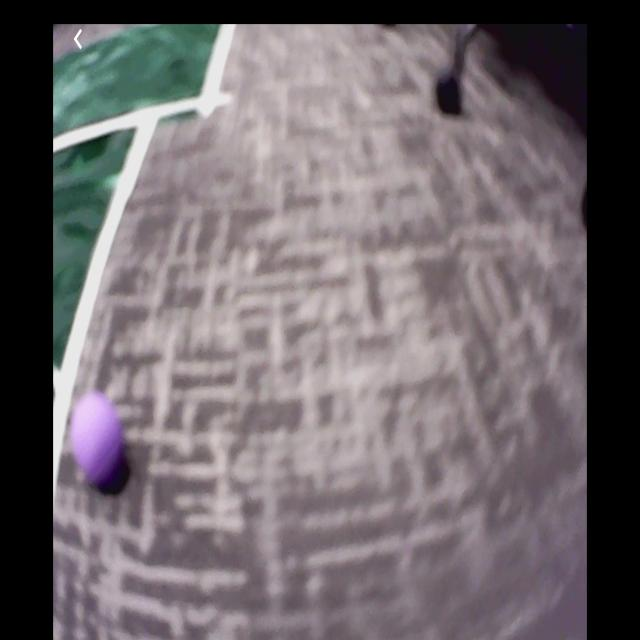ball: (72, 393, 125, 491)
